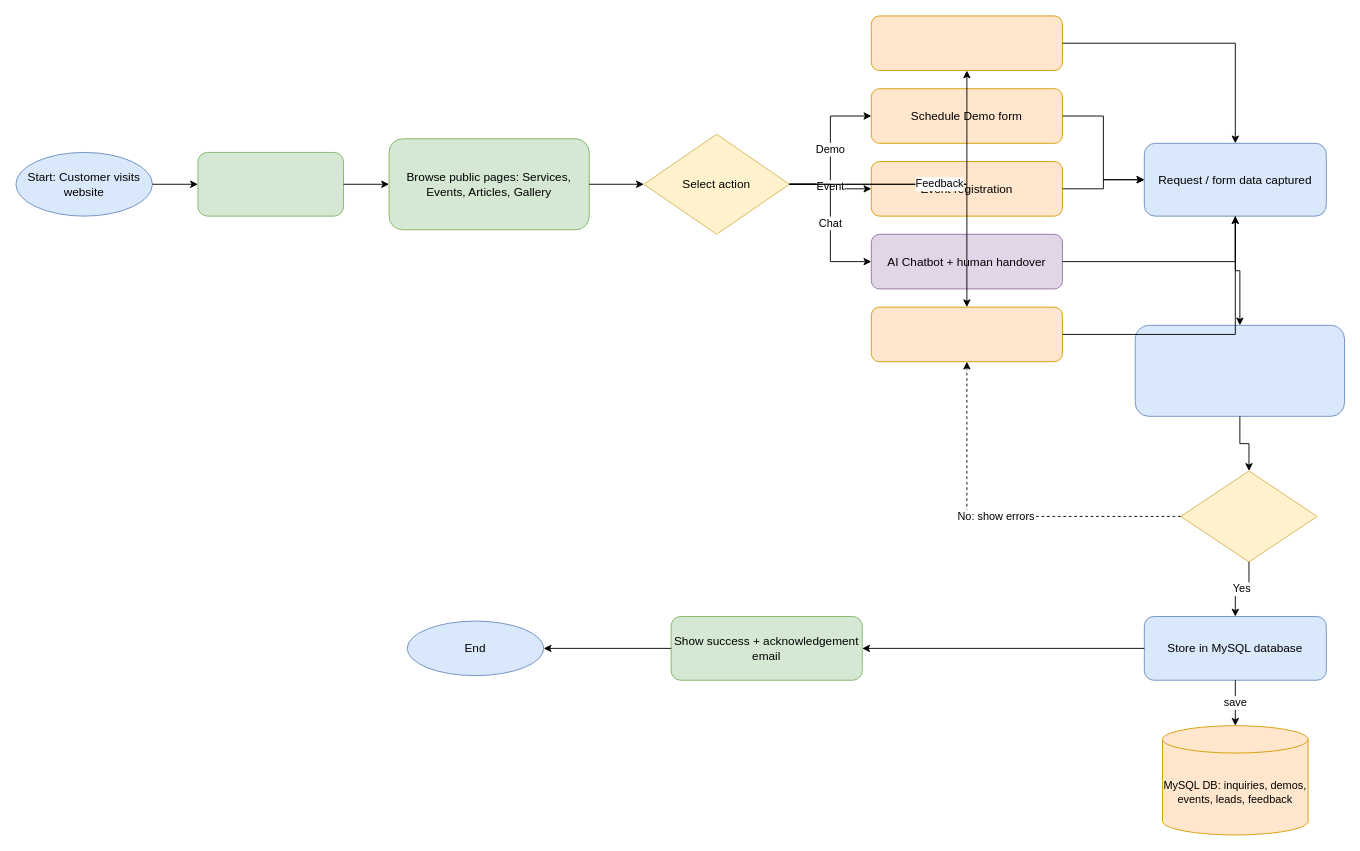
This 1360x851 diagram has some shape labels left out. Here are the shapes that lost their labels. From the top down, the box of each, then its label:
(870, 15, 1062, 71): Inquiry form (Contact Us)
(197, 152, 344, 216): Home / Landing page
(870, 306, 1062, 362): Feedback + rating
(1134, 324, 1345, 416): Validate input (PHP + JS): required, email, CAPTCHA, CSRF, consent
(1180, 470, 1317, 562): Valid?
